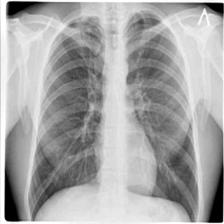tuberculosis: (19, 6, 205, 224)
